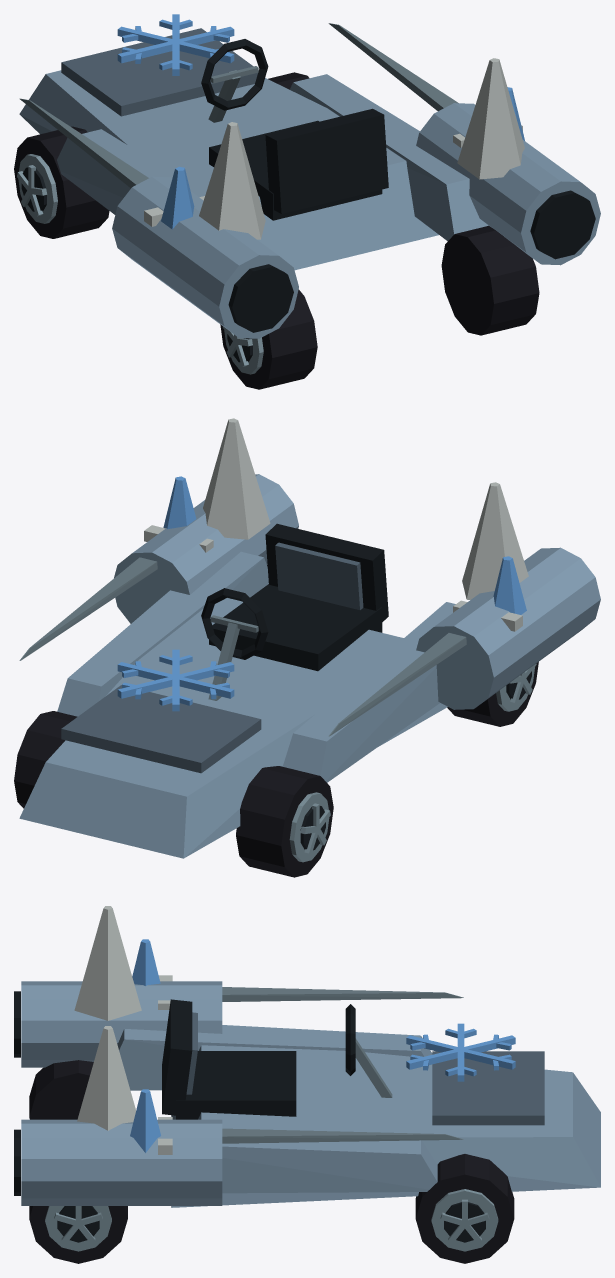
File: kart.glb
3 renders of one model, top to bottom at view 1: azimuth 30°, elevation 25°; view 2: azimuth 150°, elevation 25°; view 3: azimuth 270°, elevation 25°, orthographic. The views are drawn at different scales.
Parts seen in each view (by area): view 1: identity-speeder-speeder-long-cowl-and-stern-turbines, identity-speeder-driver-cockpit, identity-speeder-motif-crystals, wheel-rear-right, wheel-front-left, wheel-rear-left, identity-speeder-motif-swords, identity-speeder-motif-snow; view 2: identity-speeder-speeder-long-cowl-and-stern-turbines, identity-speeder-driver-cockpit, identity-speeder-motif-crystals, wheel-front-left, identity-speeder-motif-swords, identity-speeder-motif-snow, wheel-front-right, wheel-rear-left; view 3: identity-speeder-speeder-long-cowl-and-stern-turbines, identity-speeder-driver-cockpit, identity-speeder-motif-crystals, wheel-front-right, identity-speeder-motif-swords, wheel-rear-right, wheel-rear-left, identity-speeder-motif-snow.
Boxes of the visible parts, x1,y1,x2,y2 form: identity-speeder-speeder-long-cowl-and-stern-turbines: (19,28,600,338); identity-speeder-driver-cockpit: (201,39,388,220); identity-speeder-motif-crystals: (161,58,524,239); wheel-rear-right: (441,225,539,335); wheel-front-left: (14,126,109,238); wheel-rear-left: (220,289,317,389); identity-speeder-motif-swords: (19,23,522,226); identity-speeder-motif-snow: (117,14,234,75); identity-speeder-speeder-long-cowl-and-stern-turbines: (19,474,600,858); identity-speeder-driver-cockpit: (201,523,388,700); identity-speeder-motif-crystals: (163,418,528,614); wheel-front-left: (236,766,333,877); identity-speeder-motif-swords: (19,525,522,736); identity-speeder-motif-snow: (117,649,234,711); wheel-front-right: (14,711,77,808); wheel-rear-left: (447,662,538,726); identity-speeder-speeder-long-cowl-and-stern-turbines: (14,981,600,1207); identity-speeder-driver-cockpit: (162,999,392,1119); identity-speeder-motif-crystals: (74,906,160,1152); wheel-front-right: (415,1154,514,1263); identity-speeder-motif-swords: (158,975,463,1154); wheel-rear-right: (29,1206,127,1263); wheel-rear-left: (29,1060,93,1119); identity-speeder-motif-snow: (406,1023,515,1081).
Size of the model in its own units: 2.1 by 1.32 by 2.98.
